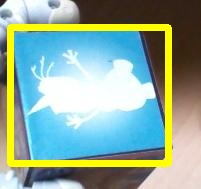Blue2: (10, 26, 168, 163)
